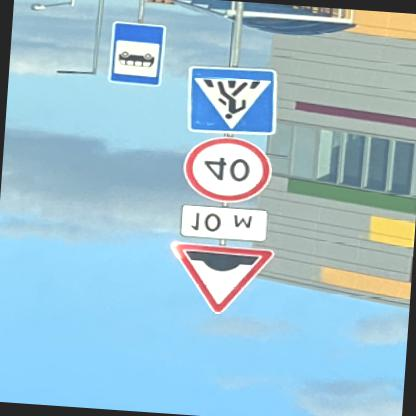crosswalk: (184, 67, 278, 139)
speedlimit: (180, 136, 272, 204)
